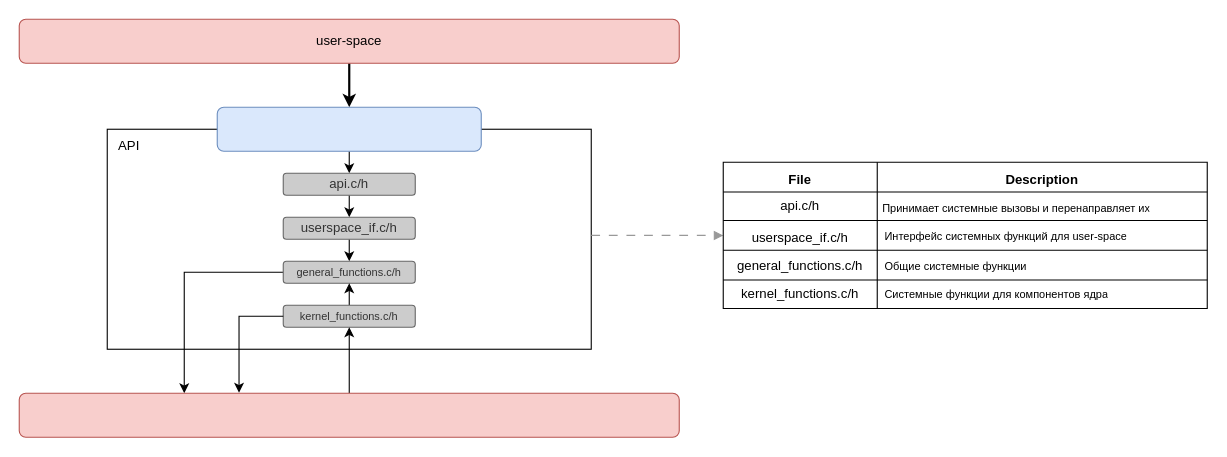
The diagram is 1227 pixels wide and 457 high, and some of its shapes have lost their labels. Here are the shapes that lost their labels. From the top down, the box of each, then its label:
(216, 106, 481, 151): syscall
(18, 392, 679, 437): kernel-space
